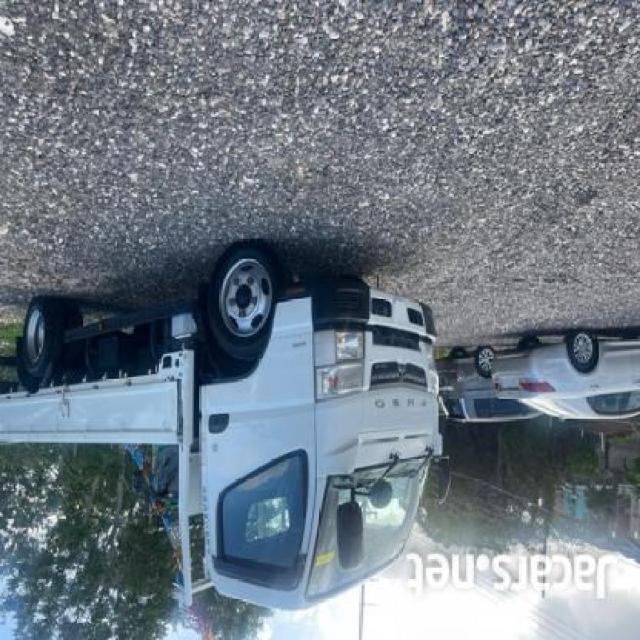truck: (2, 247, 454, 610)
